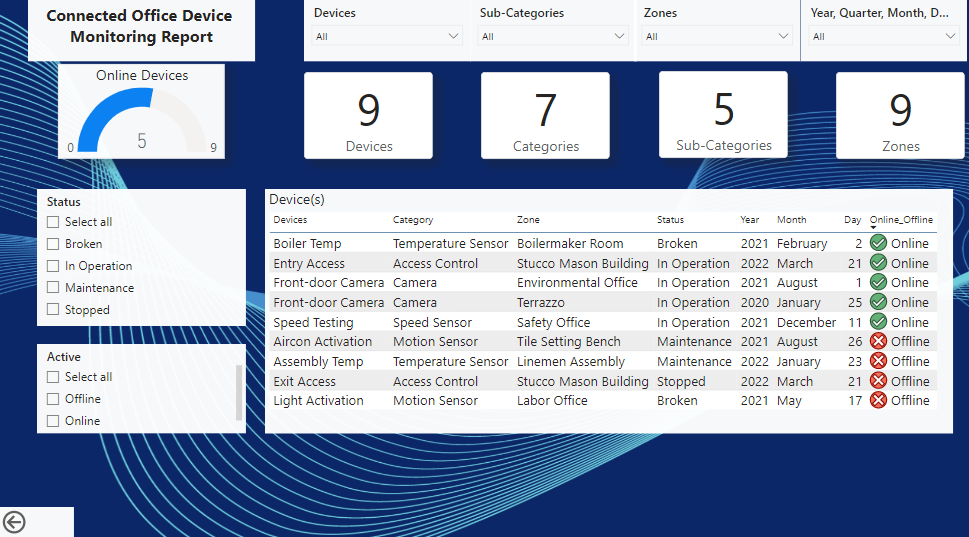

The dashboard page shown, as its layout file describes it:
{"tool":"powerbi","page":{"name":"Device  Monitoring","canvas":[1280,720],"ordinal":1},"visuals":[{"type":"card","fields":{"Values":["CountNonNull(devices.Devices)"]},"box":[403.2,105,169.9,115.2],"z":0,"group":"g1"},{"type":"gauge","title":"Online Devices","fields":{"Y":["Sum(devices.IconIsActive)"]},"box":[77.8,93.6,220.3,125.3],"z":0},{"type":"card","fields":{"Values":["Count(categories.CategoryName)"]},"box":[636.5,105,169.9,115.2],"z":1000,"group":"g1"},{"type":"textbox","box":[38.9,8.6,299.5,80.6],"z":1000},{"type":"card","fields":{"Values":["Count(subCategories.ID)"]},"box":[872.6,103.7,169.9,115.2],"z":2000,"group":"g1"},{"type":"slicer","fields":{"Values":["devices.Devices"]},"box":[403.2,8.6,220.3,80.6],"z":2000},{"type":"card","fields":{"Values":["Count(zones.ID)"]},"box":[1105.6,105,169.9,115.2],"z":3000,"group":"g1"},{"type":"slicer","fields":{"Values":["subCategories.SubCategoryName"]},"box":[622.1,8.6,220.3,80.6],"z":3000},{"type":"slicer","fields":{"Values":["zones.ZoneName"]},"box":[839.5,8.6,220.3,80.6],"z":4000},{"type":"slicer","title":"Date Installed","fields":{"Values":["devices.Date Installed.Variation.Date Hierarchy.Year","devices.Date Installed.Variation.Date Hierarchy.Quarter","devices.Date Installed.Variation.Date Hierarchy.Month","devices.Date Installed.Variation.Date Hierarchy.Day"]},"box":[1059.8,8.6,220.3,80.6],"z":5000},{"type":"group","id":"g1","title":"Group 1","box":[403.2,103.7,872.6,116.6],"z":6000},{"type":"tableEx","title":"Device(s)","fields":{"Values":["devices.Devices","devices.Categories","devices.Zones","devices.Status","devices.Date Installed.Variation.Date Hierarchy.Year","devices.Date Installed.Variation.Date Hierarchy.Month","devices.Date Installed.Variation.Date Hierarchy.Day","devices.Online_Offline"]},"box":[351.4,259.2,908.6,322.6],"z":7000},{"type":"slicer","fields":{"Values":["devices.Online_Offline"]},"box":[50.4,463.7,276.5,118.1],"z":8000},{"type":"slicer","fields":{"Values":["devices.Status"]},"box":[50.4,259.2,276.5,181.4],"z":9000},{"type":"actionButton","box":[0,679.7,99.4,40.3],"z":10000}]}

Visuals, with their boxes in screenshot pixels (x1, y1, x2, y2), scaled from the page's 1280x720 canvas onto the 969x537 screenshot:
card - CountNonNull(devices.Devices): {"left": 305, "top": 78, "right": 434, "bottom": 164}
"Online Devices" gauge: {"left": 59, "top": 70, "right": 226, "bottom": 163}
card - Count(categories.CategoryName): {"left": 482, "top": 78, "right": 610, "bottom": 164}
textbox: {"left": 29, "top": 6, "right": 256, "bottom": 67}
card - Count(subCategories.ID): {"left": 661, "top": 77, "right": 789, "bottom": 163}
slicer - devices.Devices: {"left": 305, "top": 6, "right": 472, "bottom": 67}
card - Count(zones.ID): {"left": 837, "top": 78, "right": 966, "bottom": 164}
slicer - subCategories.SubCategoryName: {"left": 471, "top": 6, "right": 638, "bottom": 67}
slicer - zones.ZoneName: {"left": 636, "top": 6, "right": 802, "bottom": 67}
"Date Installed" slicer: {"left": 802, "top": 6, "right": 968, "bottom": 67}
"Group 1" group: {"left": 305, "top": 77, "right": 966, "bottom": 164}
"Device(s)" tableEx: {"left": 266, "top": 193, "right": 954, "bottom": 434}
slicer - devices.Online_Offline: {"left": 38, "top": 346, "right": 247, "bottom": 434}
slicer - devices.Status: {"left": 38, "top": 193, "right": 247, "bottom": 329}
actionButton: {"left": 0, "top": 507, "right": 75, "bottom": 536}
